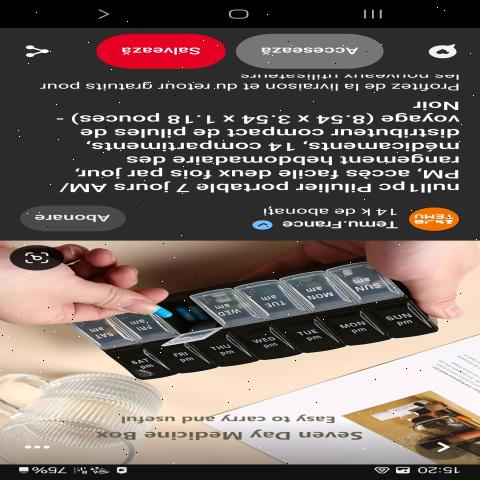PillBox: (50, 262, 442, 383)
